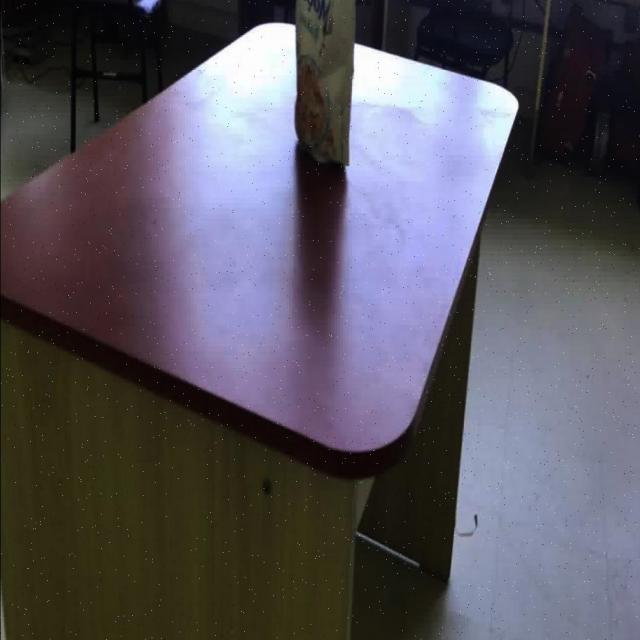CornFlakes: (0, 21, 521, 479), (294, 0, 360, 171)
